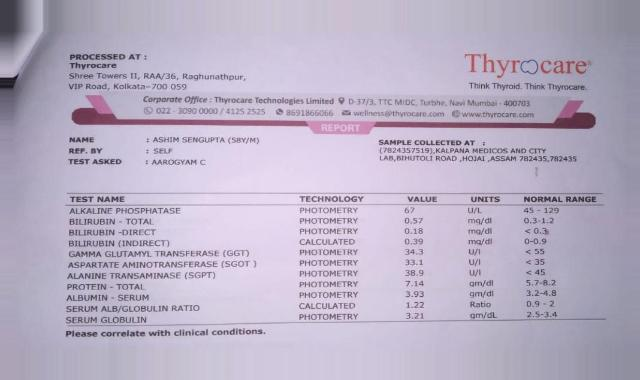Name: (151, 134, 262, 146)
Ref_By: (152, 147, 178, 157)
Reference_Range: (519, 205, 568, 321)
Technology: (294, 205, 368, 323)
Test_Asked: (149, 159, 213, 168)
Test_Name: (63, 205, 267, 327)
Unit: (460, 205, 508, 323)
Value: (398, 205, 436, 322)
